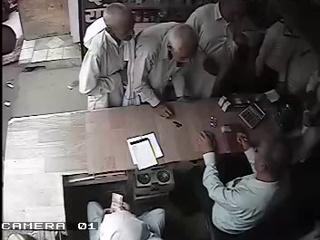Normal: (197, 128, 294, 240), (122, 21, 200, 116), (178, 0, 249, 100), (87, 192, 165, 240)
shoplifting: (78, 2, 136, 110)
